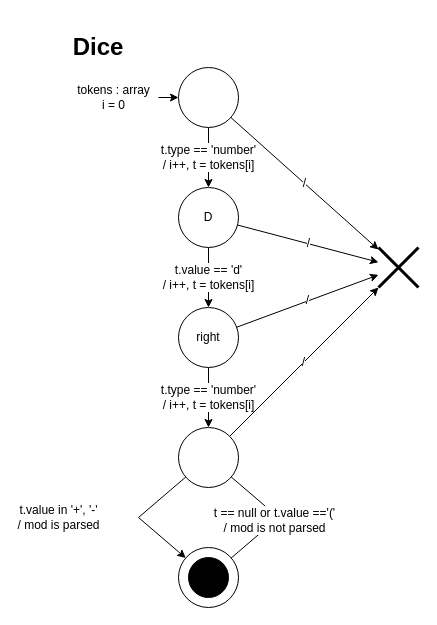
Some shapes in this 437 by 625 pixel diagram are drawn without their labels. Here are the shapes that lost their labels. From the top down, the box of each, then its label:
(178, 66, 238, 128): left
(178, 426, 238, 488): mod
